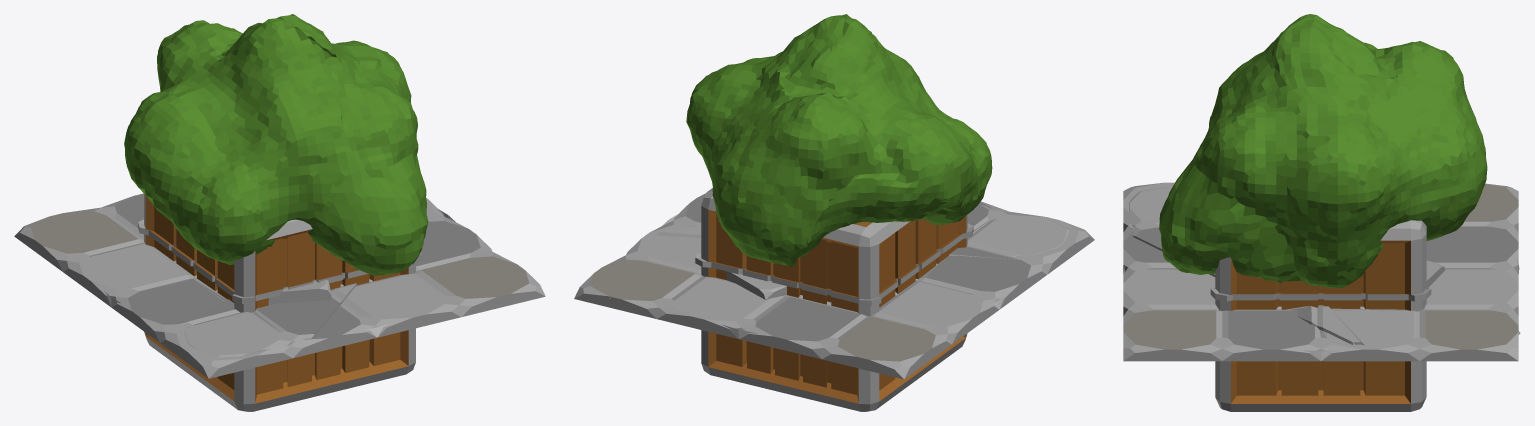
The model's file is enviro.fbx.
3 renders of one model, left to right at view 1: azimuth 30°, elevation 25°; view 2: azimuth 150°, elevation 25°; view 3: azimuth 270°, elevation 25°, orthographic. The views are drawn at different scales.
Parts seen in each view (by area): view 1: tree2, ground1, chest, ground_broken, stone_flat; view 2: tree2, ground1, chest, ground_broken, stone_flat; view 3: tree2, ground1, chest, ground_broken.
Boxes of the visible parts, x1=… form: tree2: x1=124, y1=14, x2=428, y2=275; ground1: x1=14, y1=193, x2=545, y2=378; chest: x1=138, y1=194, x2=421, y2=411; ground_broken: x1=66, y1=257, x2=528, y2=357; stone_flat: x1=268, y1=280, x2=331, y2=305; tree2: x1=686, y1=14, x2=992, y2=266; ground1: x1=574, y1=193, x2=1094, y2=379; chest: x1=695, y1=188, x2=973, y2=411; ground_broken: x1=602, y1=204, x2=1069, y2=342; stone_flat: x1=726, y1=271, x2=786, y2=299; tree2: x1=1159, y1=14, x2=1487, y2=287; ground1: x1=1123, y1=182, x2=1518, y2=361; chest: x1=1210, y1=220, x2=1431, y2=411; ground_broken: x1=1123, y1=187, x2=1520, y2=361.
Bounding box in the file's own units: 200 × 197 × 201.
